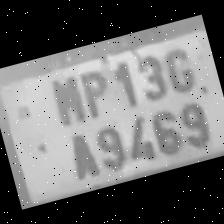1: (103, 53, 142, 111)
3: (128, 47, 169, 103)
4: (116, 108, 158, 167)
6: (143, 102, 185, 162)
9: (171, 92, 216, 154), (88, 119, 128, 175)
A: (58, 125, 100, 184)
G: (156, 38, 200, 96)
M: (43, 70, 88, 131)
P: (72, 62, 116, 122)
